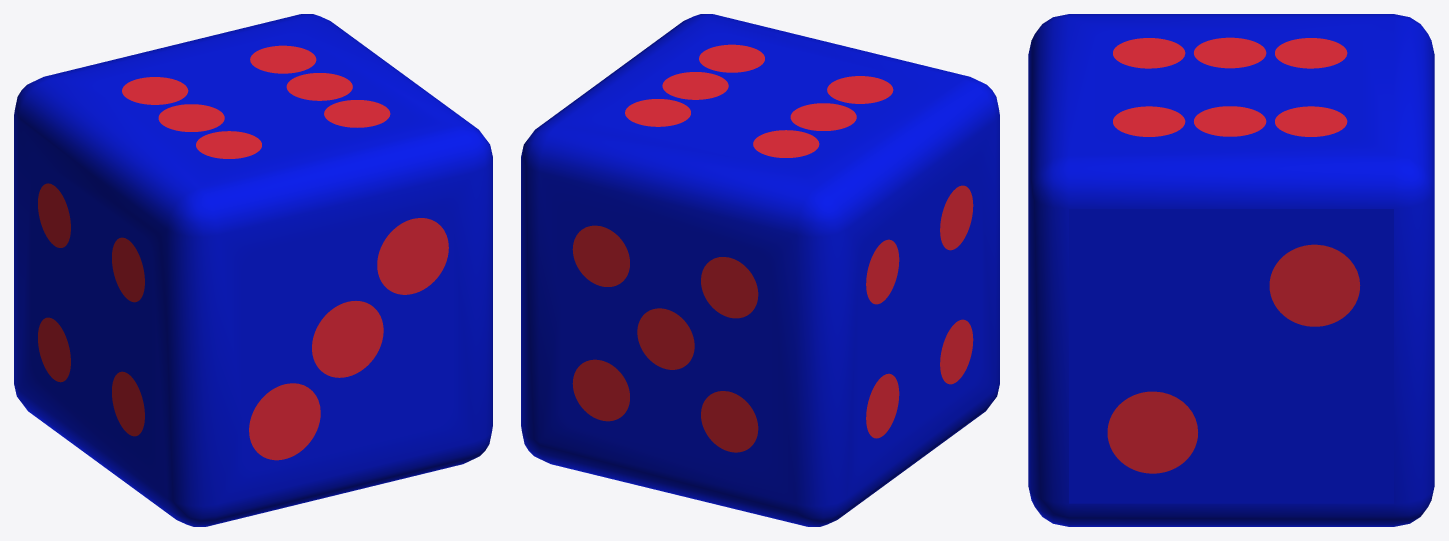
The model's file is customsix.glb.
The picture shows the model from 3 angles, left to right: view 1: azimuth 30°, elevation 25°; view 2: azimuth 150°, elevation 25°; view 3: azimuth 270°, elevation 25°; orthographic projection. The views are drawn at different scales.
Parts seen in each view (by area): view 1: Ledicesisx; view 2: Ledicesisx; view 3: Ledicesisx.
Part boxes in pixels (x1,y1,x2,y2): Ledicesisx: (14, 14, 492, 526); Ledicesisx: (521, 14, 999, 526); Ledicesisx: (1028, 14, 1434, 526).
Bounding box in the file's own units: 1 × 1 × 1.
